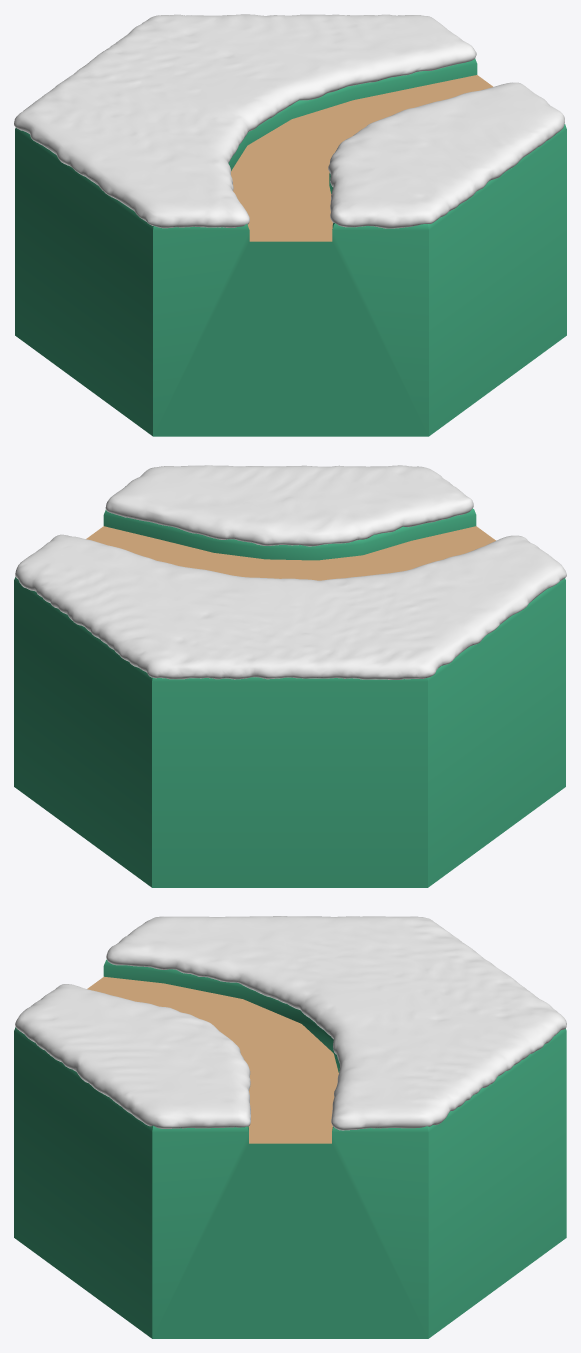
Rendered from snow_hex_forest_roadD.fbx.
3 views of the same model, one above another, from view 1: azimuth 30°, elevation 25°; view 2: azimuth 150°, elevation 25°; view 3: azimuth 270°, elevation 25° (orthographic).
Parts seen in each view (by area): view 1: hex_forest_roadD.001, SnowBall.001, hex_forest_roadD; view 2: hex_forest_roadD.001, SnowBall.001, hex_forest_roadD; view 3: hex_forest_roadD.001, SnowBall.001, hex_forest_roadD.
Part boxes in pixels (box(x1,y1,x2,y2)): hex_forest_roadD.001: box(15, 58, 566, 436); SnowBall.001: box(14, 14, 564, 228); hex_forest_roadD: box(231, 75, 493, 241); hex_forest_roadD.001: box(14, 508, 565, 887); SnowBall.001: box(15, 465, 566, 679); hex_forest_roadD: box(86, 526, 495, 580); hex_forest_roadD.001: box(14, 959, 566, 1338); SnowBall.001: box(15, 916, 566, 1130); hex_forest_roadD: box(87, 976, 338, 1143).
Bounding box in the file's own units: 203 × 104 × 231.
